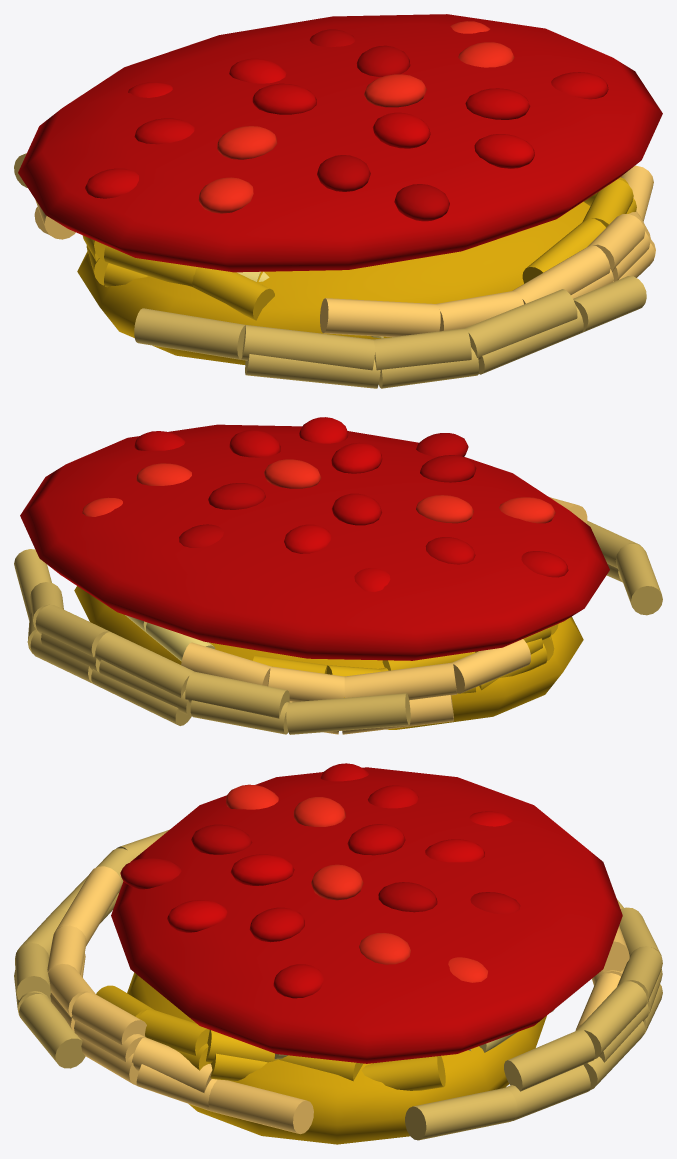
Rendered from CMU3DFoodNoodlesExtraCloud.glb.
3 renders of one model, top to bottom at view 1: azimuth 30°, elevation 25°; view 2: azimuth 150°, elevation 25°; view 3: azimuth 270°, elevation 25°, orthographic. The views are drawn at different scales.
Parts seen in each view (by area): view 1: low crushed tomato sauce mound, small packed pasta core, curved spaghetti strand 03.1, curved spaghetti strand 08.2, curved spaghetti strand 08.1, curved spaghetti strand 08.4, curved spaghetti strand 08.3, curved spaghetti strand 16.1, curved spaghetti strand 03.3, curved spaghetti strand 16.4, curved spaghetti strand 18.4, curved spaghetti strand 03.2 (+25 smaller); view 2: low crushed tomato sauce mound, small packed pasta core, curved spaghetti strand 20.4, curved spaghetti strand 15.3, curved spaghetti strand 12.4, curved spaghetti strand 12.3, curved spaghetti strand 15.4, curved spaghetti strand 08.1, curved spaghetti strand 15.1, curved spaghetti strand 12.2, curved spaghetti strand 15.2, curved spaghetti strand 20.3 (+30 smaller); view 3: low crushed tomato sauce mound, small packed pasta core, curved spaghetti strand 04.1, curved spaghetti strand 19.4, curved spaghetti strand 12.1, curved spaghetti strand 16.4, curved spaghetti strand 12.2, curved spaghetti strand 03.1, curved spaghetti strand 14.4, curved spaghetti strand 03.4, curved spaghetti strand 04.2, curved spaghetti strand 11.4 (+36 smaller).
Boxes of the visible parts, x1=… form: low crushed tomato sauce mound: x1=18, y1=14, x2=662, y2=272; small packed pasta core: x1=77, y1=201, x2=590, y2=364; curved spaghetti strand 03.1: x1=320, y1=298, x2=440, y2=336; curved spaghetti strand 08.2: x1=241, y1=325, x2=374, y2=370; curved spaghetti strand 08.1: x1=134, y1=308, x2=245, y2=359; curved spaghetti strand 08.4: x1=464, y1=289, x2=577, y2=359; curved spaghetti strand 08.3: x1=373, y1=328, x2=471, y2=373; curved spaghetti strand 16.1: x1=245, y1=354, x2=380, y2=388; curved spaghetti strand 03.3: x1=512, y1=245, x2=610, y2=304; curved spaghetti strand 16.4: x1=573, y1=276, x2=646, y2=332; curved spaghetti strand 18.4: x1=192, y1=267, x2=274, y2=320; curved spaghetti strand 03.2: x1=436, y1=291, x2=523, y2=331; low crushed tomato sauce mound: x1=20, y1=424, x2=609, y2=660; small packed pasta core: x1=74, y1=586, x2=583, y2=729; curved spaghetti strand 20.4: x1=286, y1=693, x2=410, y2=734; curved spaghetti strand 15.3: x1=344, y1=662, x2=457, y2=700; curved spaghetti strand 12.4: x1=185, y1=671, x2=289, y2=718; curved spaghetti strand 12.3: x1=95, y1=631, x2=194, y2=697; curved spaghetti strand 15.4: x1=451, y1=639, x2=530, y2=693; curved spaghetti strand 08.1: x1=615, y1=543, x2=662, y2=615; curved spaghetti strand 15.1: x1=181, y1=642, x2=271, y2=686; curved spaghetti strand 12.2: x1=35, y1=605, x2=109, y2=657; curved spaghetti strand 15.2: x1=267, y1=666, x2=344, y2=701; curved spaghetti strand 20.3: x1=190, y1=700, x2=288, y2=734; low crushed tomato sauce mound: x1=111, y1=767, x2=622, y2=1063; small packed pasta core: x1=127, y1=972, x2=546, y2=1144; curved spaghetti strand 04.1: x1=405, y1=1088, x2=517, y2=1140; curved spaghetti strand 19.4: x1=208, y1=1079, x2=313, y2=1134; curved spaghetti strand 12.1: x1=504, y1=1030, x2=595, y2=1091; curved spaghetti strand 16.4: x1=19, y1=994, x2=85, y2=1068; curved spaghetti strand 12.2: x1=576, y1=981, x2=647, y2=1059; curved spaghetti strand 03.1: x1=54, y1=866, x2=121, y2=945; curved spaghetti strand 14.4: x1=361, y1=1056, x2=445, y2=1090; curved spaghetti strand 03.4: x1=71, y1=992, x2=146, y2=1045; curved spaghetti strand 04.2: x1=504, y1=1065, x2=590, y2=1120; curved spaghetti strand 11.4: x1=132, y1=1037, x2=212, y2=1092.
Size of the model in its own units: 0.4057 by 0.1519 by 0.3943.
